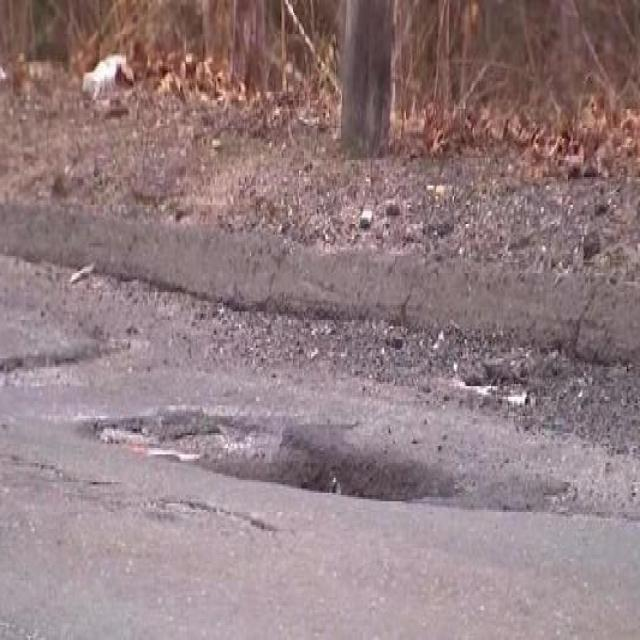pothole: (82, 401, 456, 508)
